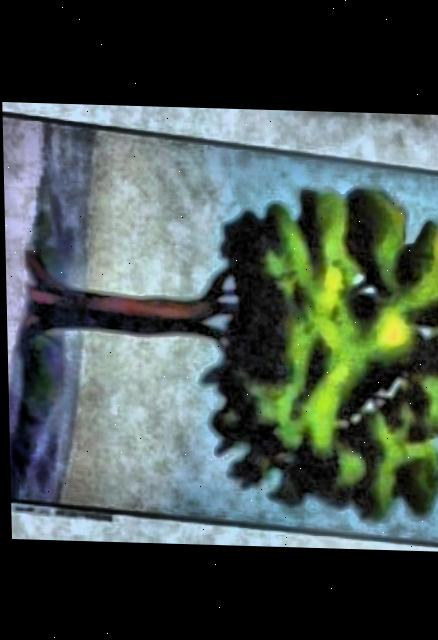El Arbol: (2, 115, 438, 542)
